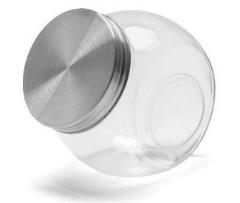glass: (22, 8, 216, 178)
